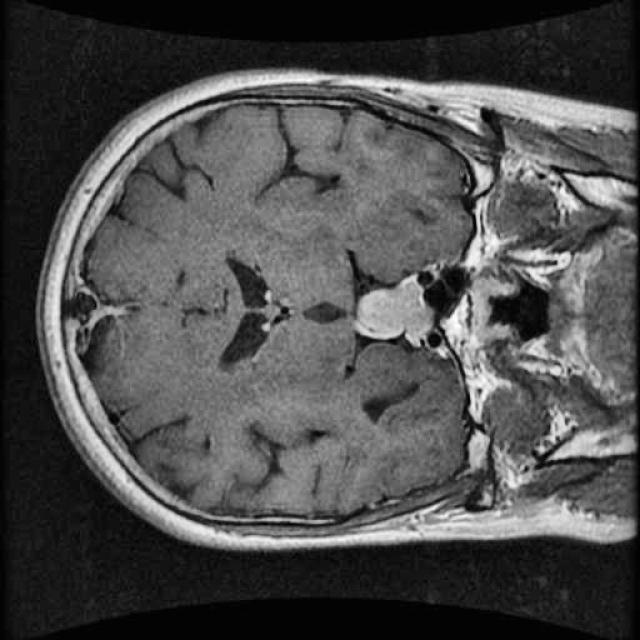Tumor: (348, 259, 444, 356)
